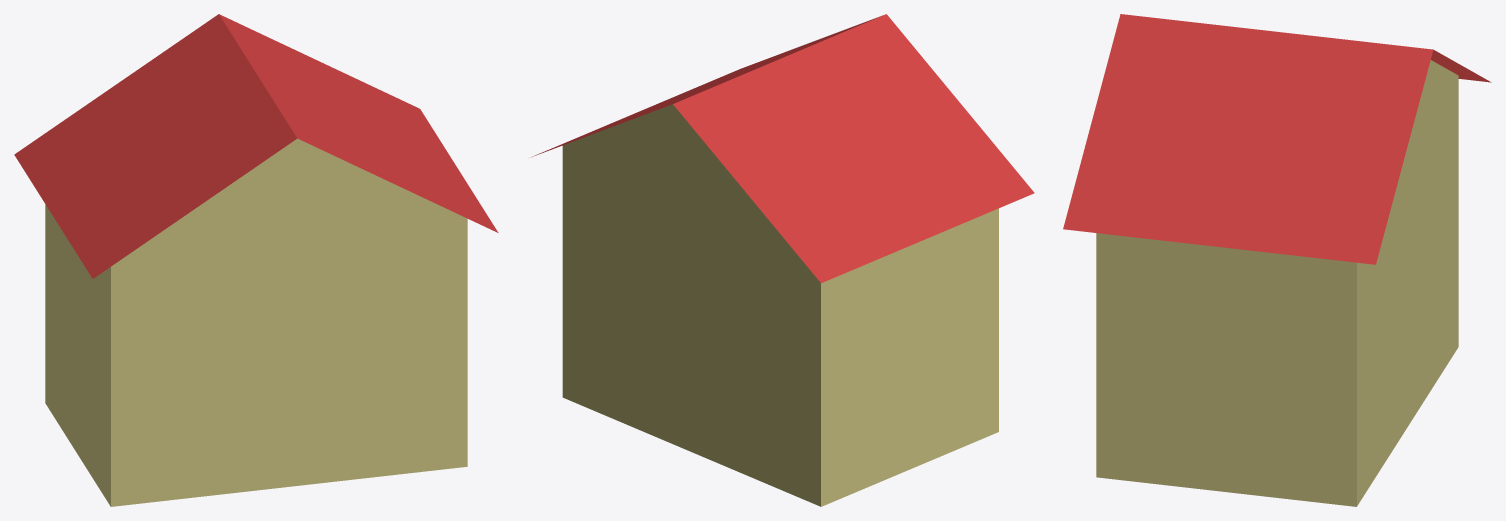
The picture shows the model from 3 angles, left to right: view 1: azimuth 30°, elevation 25°; view 2: azimuth 150°, elevation 25°; view 3: azimuth 270°, elevation 25°; orthographic projection. The views are drawn at different scales.
Size of the model in its own units: 14.27 by 11.88 by 11.64.
